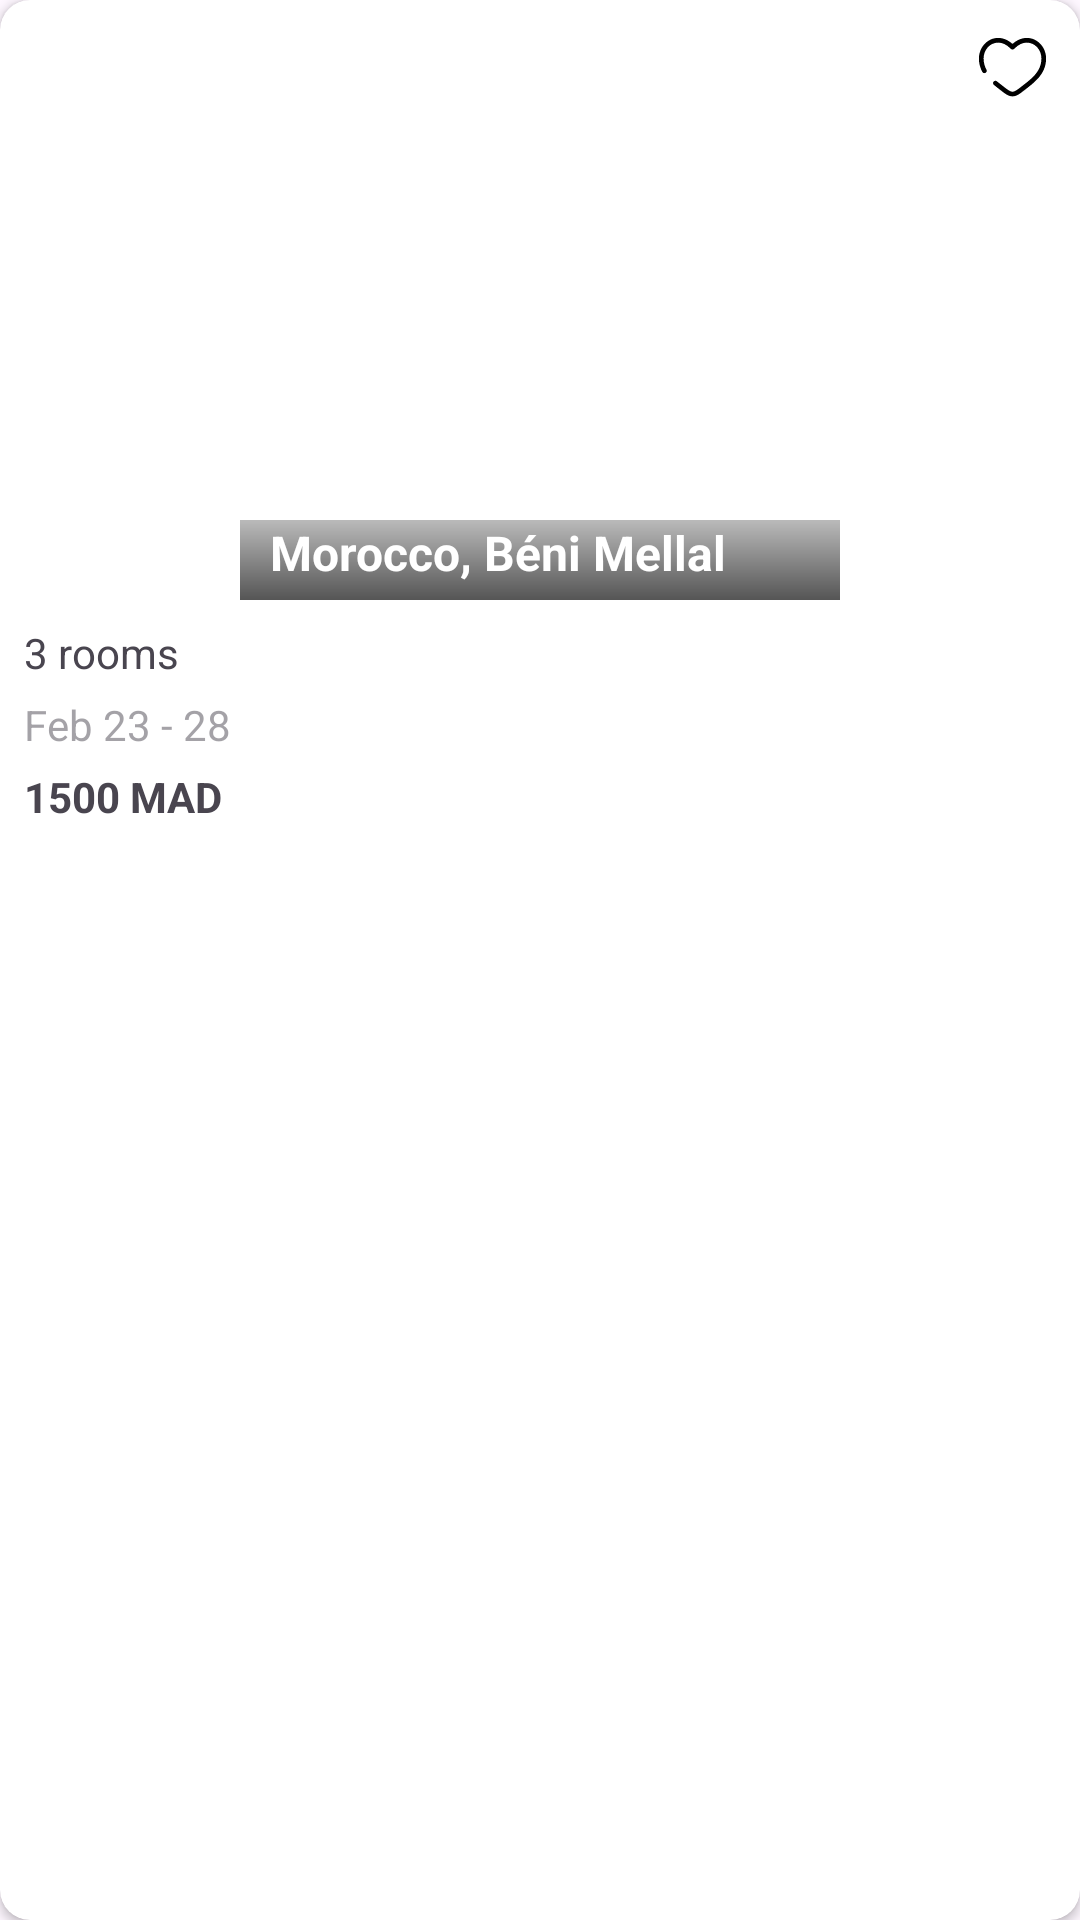

Icon bounding boxes for this 1080w x 1920h phone screenshot, format (x1, y1, x2, y2):
heart: (979, 0, 1080, 97)
